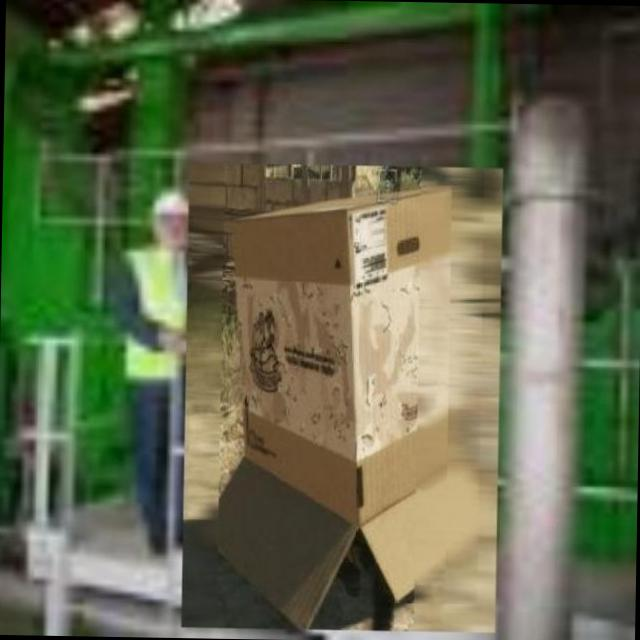box: (174, 155, 507, 640)
